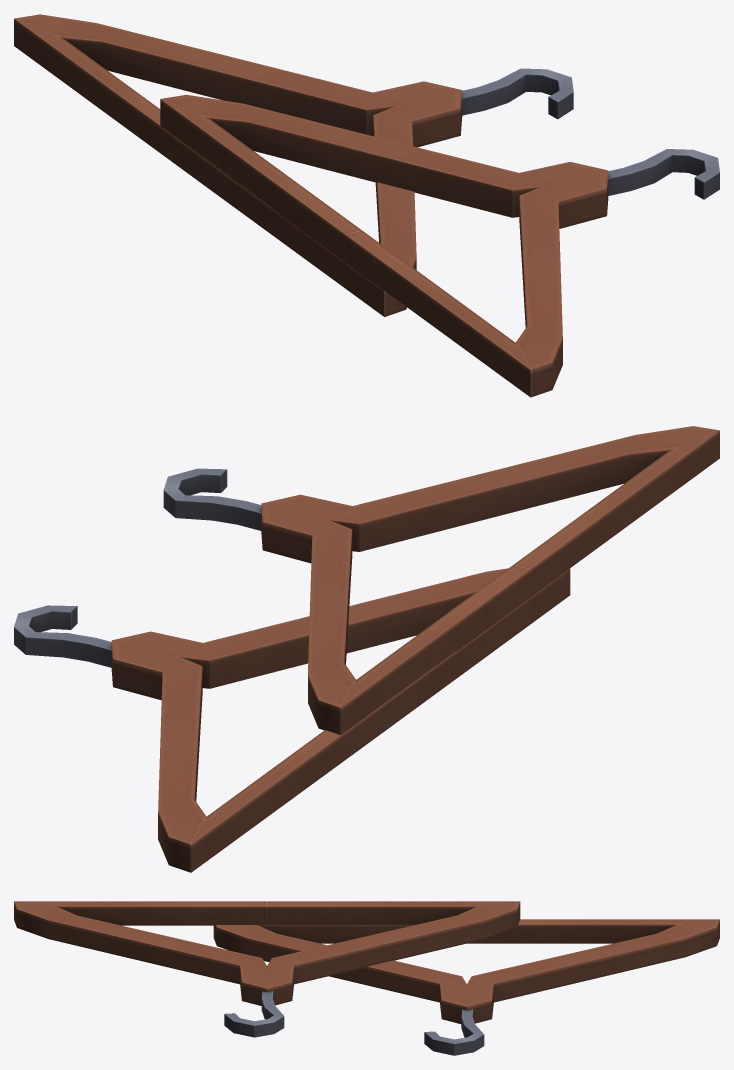
File: PiErSenGongYu_01_yijia_01.FBX
The picture shows the model from 3 angles, top to bottom: view 1: azimuth 30°, elevation 25°; view 2: azimuth 150°, elevation 25°; view 3: azimuth 270°, elevation 25°; orthographic projection. The views are drawn at different scales.
Parts seen in each view (by area): view 1: PiErSenDeGongYu_yijia_01; view 2: PiErSenDeGongYu_yijia_01; view 3: PiErSenDeGongYu_yijia_01.
Part boxes in pixels (box(x1,y1,x2,y2)): PiErSenDeGongYu_yijia_01: box(14, 14, 719, 397); PiErSenDeGongYu_yijia_01: box(14, 426, 719, 872); PiErSenDeGongYu_yijia_01: box(14, 901, 719, 1055).
Size of the model in its own units: 103 by 14.66 by 254.
